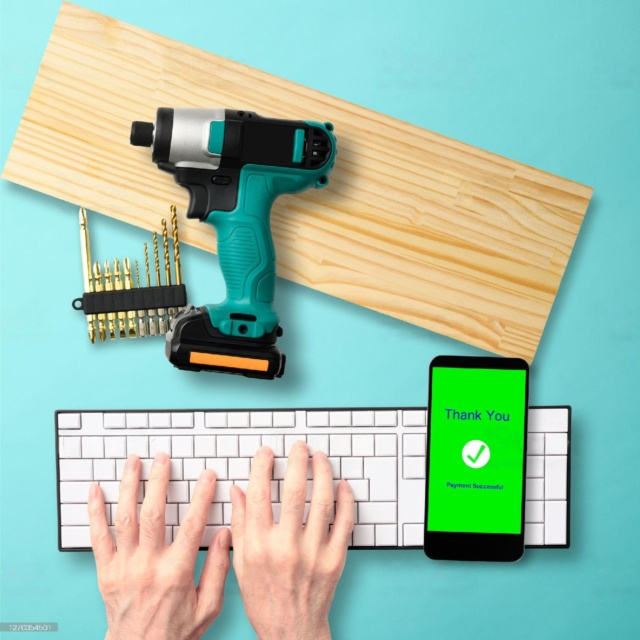drill: (125, 99, 342, 388)
